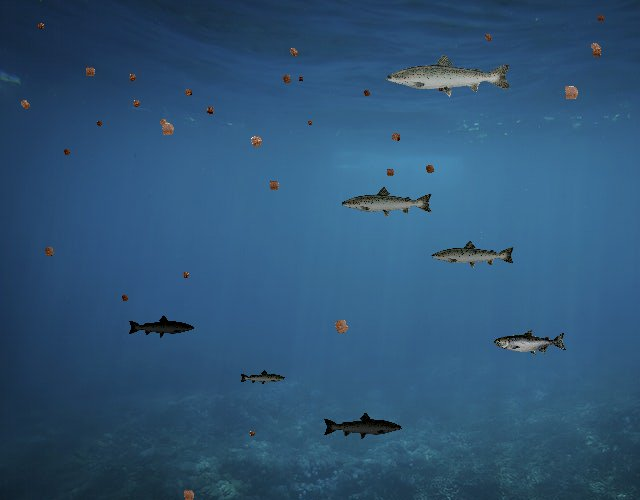Fish: (384, 52, 513, 98), (341, 185, 435, 219), (430, 239, 516, 270), (323, 411, 404, 441), (495, 329, 568, 355), (128, 314, 196, 338), (240, 370, 287, 387)
Pellet: (244, 129, 269, 154), (177, 484, 200, 500), (178, 268, 193, 283), (118, 291, 132, 305), (34, 19, 48, 33), (246, 428, 258, 440)
